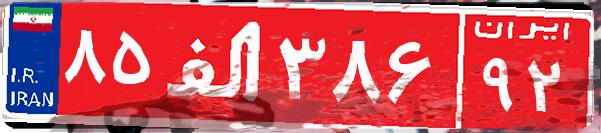2: (525, 38, 570, 115)
3: (273, 28, 330, 110)
5: (110, 28, 158, 105)
6: (385, 28, 445, 110)
8: (330, 28, 385, 110), (57, 26, 110, 107)
9: (475, 38, 525, 113)
الف: (158, 15, 273, 115)
